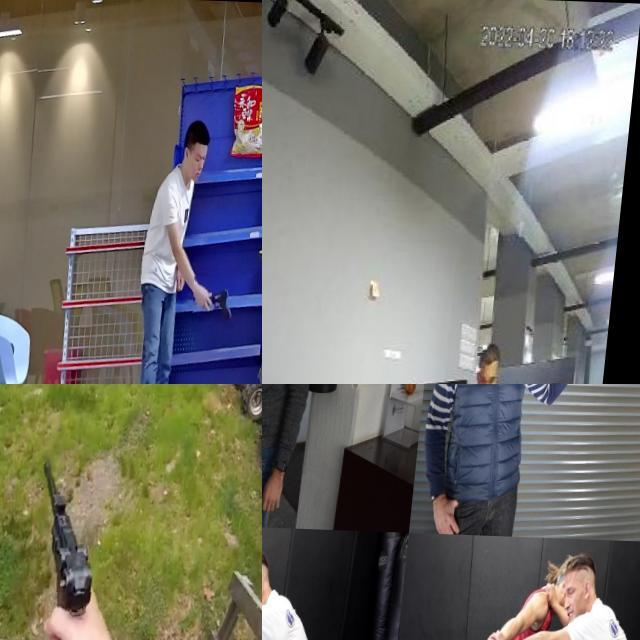-: (574, 384, 607, 399), (262, 384, 279, 406)
gun-knife-thesis - v11 Yolov5 augmented: (16, 445, 151, 640), (198, 270, 242, 320)
